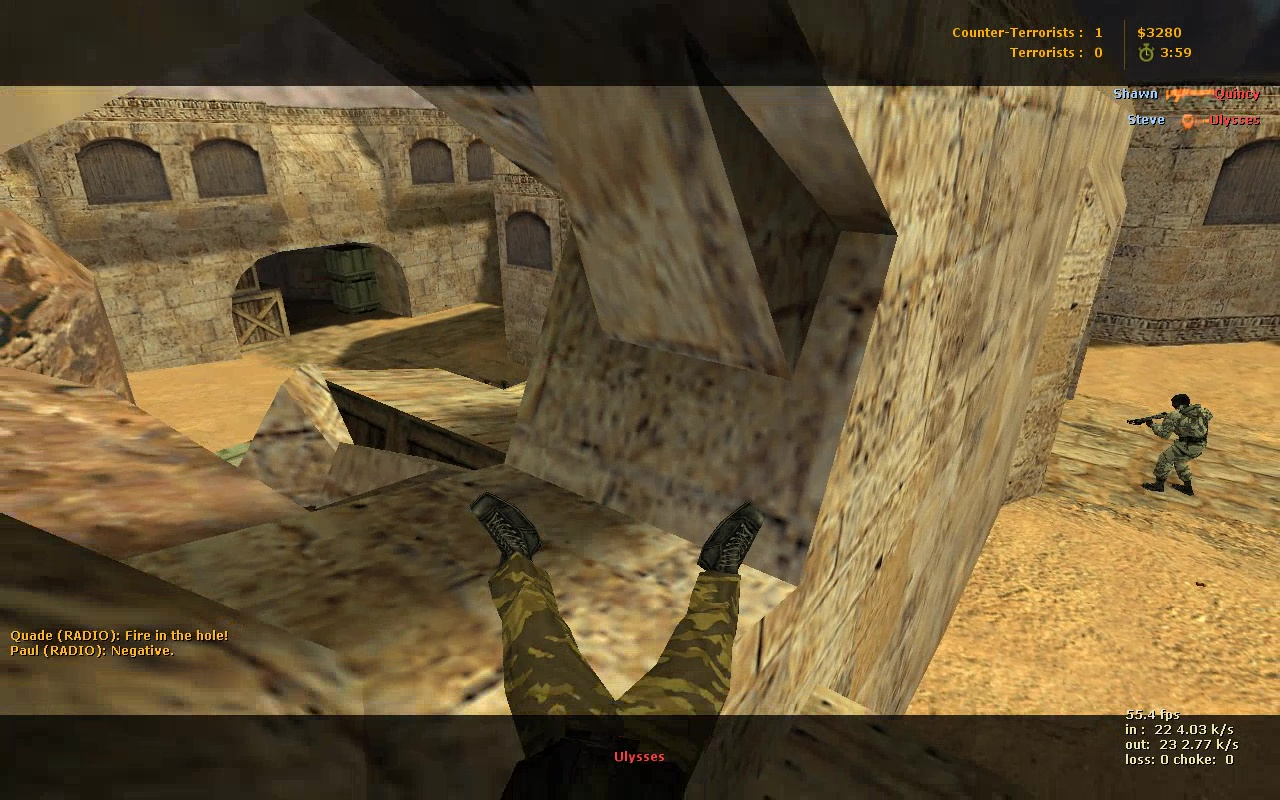terr2: (1143, 389, 1216, 502)
